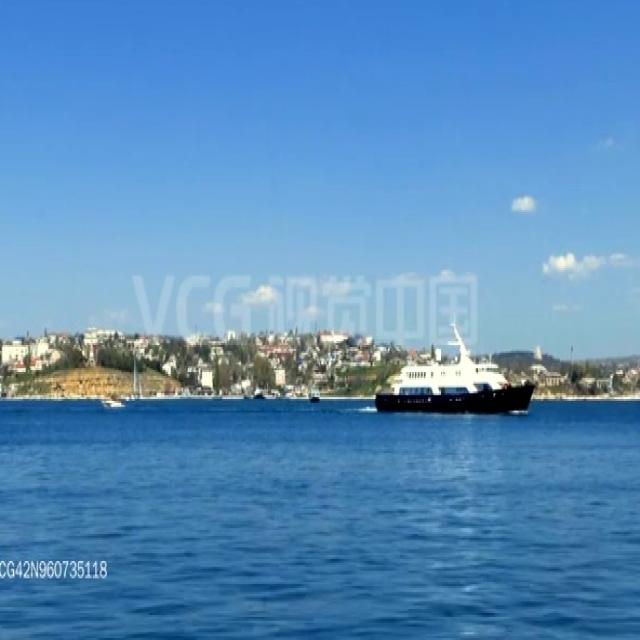passenger ship: (377, 334, 537, 418)
